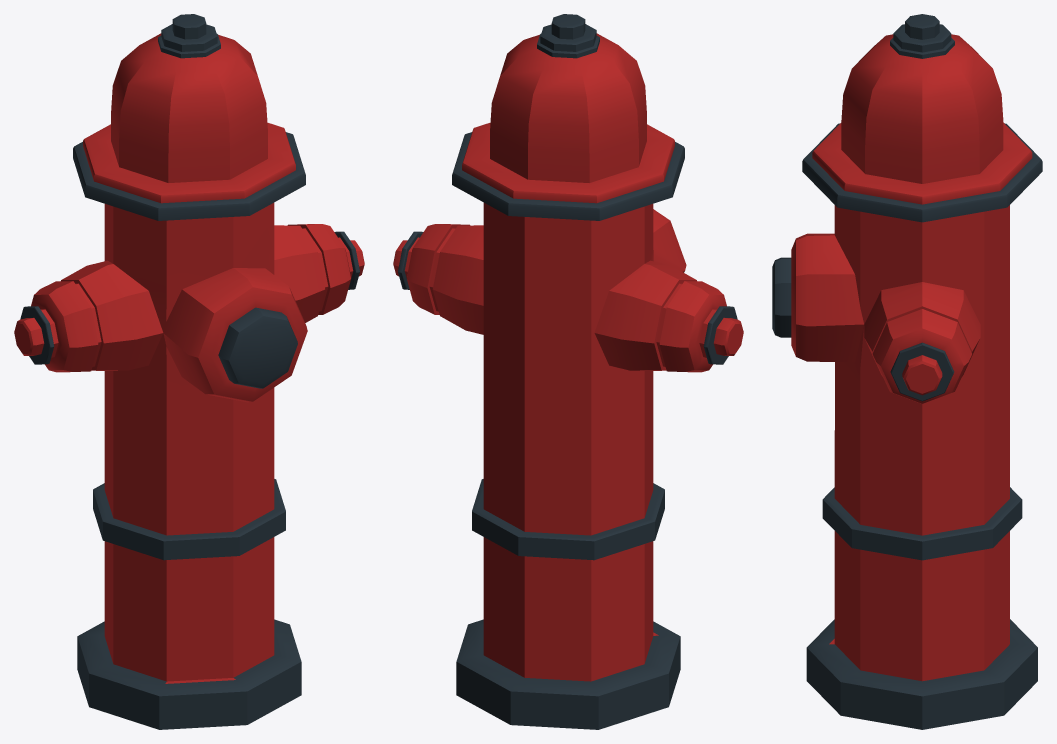
The model's file is FireHydrant.fbx.
3 views of the same model, side by side, from view 1: azimuth 30°, elevation 25°; view 2: azimuth 150°, elevation 25°; view 3: azimuth 270°, elevation 25° (orthographic).
Visible parts, largest first — view 1: FireHydrant; view 2: FireHydrant; view 3: FireHydrant.
Part boxes in pixels (x1,y1,x2,y2): FireHydrant: [14, 14, 364, 729]; FireHydrant: [393, 14, 743, 729]; FireHydrant: [772, 14, 1042, 729].
Bounding box in the file's own units: 46.54 × 88.22 × 32.7.
